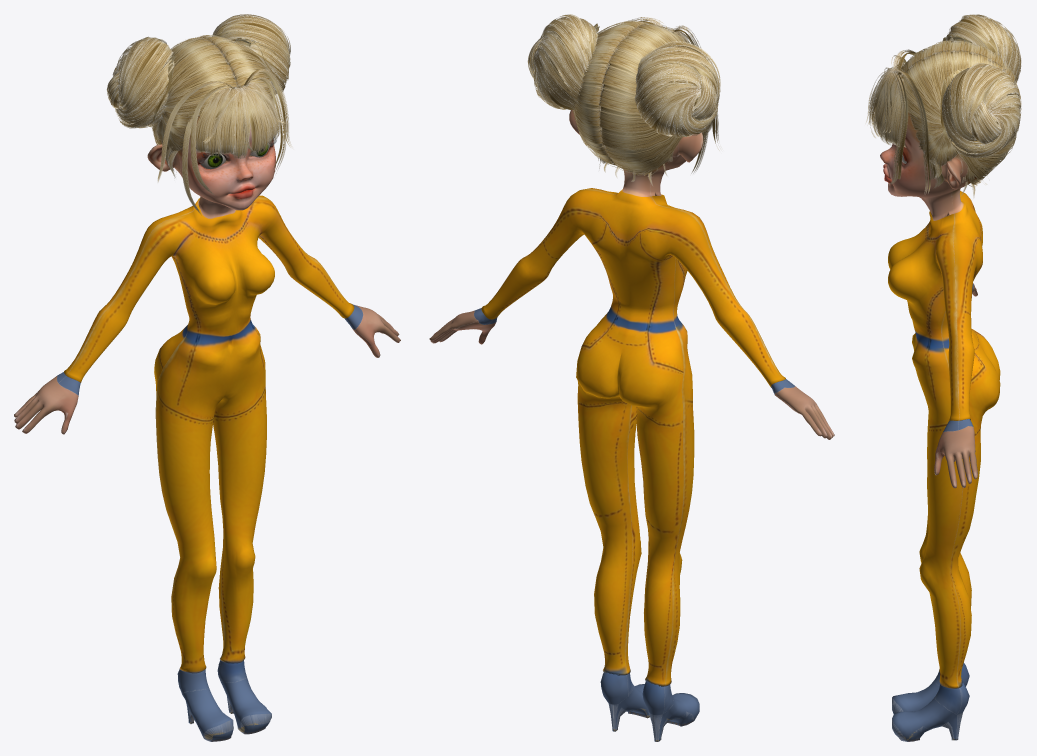
File: girl.glb
3 views of the same model, side by side, from view 1: azimuth 30°, elevation 25°; view 2: azimuth 150°, elevation 25°; view 3: azimuth 270°, elevation 25° (orthographic). The views are drawn at different scales.
Parts seen in each view (by area): view 1: Body.047, SK_HAIR_PACK07_HAIRSTYLE_04.527; view 2: Body.047, SK_HAIR_PACK07_HAIRSTYLE_04.527; view 3: Body.047, SK_HAIR_PACK07_HAIRSTYLE_04.527.
Boxes of the visible parts, box(x1,y1,x2,y2) form: Body.047: box(14, 115, 400, 741); SK_HAIR_PACK07_HAIRSTYLE_04.527: box(106, 14, 292, 215); Body.047: box(429, 110, 834, 741); SK_HAIR_PACK07_HAIRSTYLE_04.527: box(527, 14, 721, 185); Body.047: box(880, 112, 1000, 741); SK_HAIR_PACK07_HAIRSTYLE_04.527: box(865, 14, 1021, 198).
Size of the model in its own units: 1.29 by 2.18 by 0.4589.
Materials: 2 (2 with a texture image).
